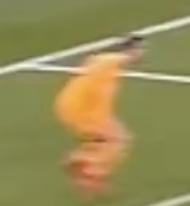goalkeeper: (43, 24, 156, 206)
